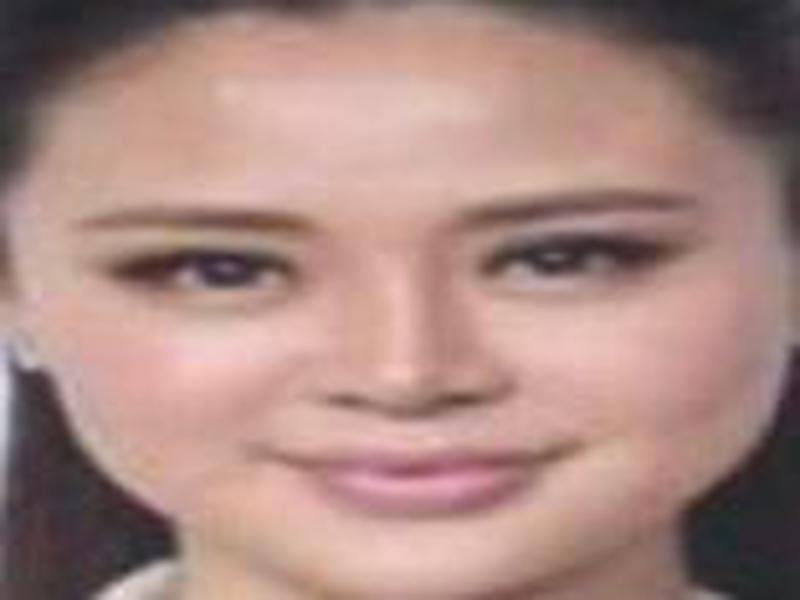without_mask: (16, 31, 783, 582)
